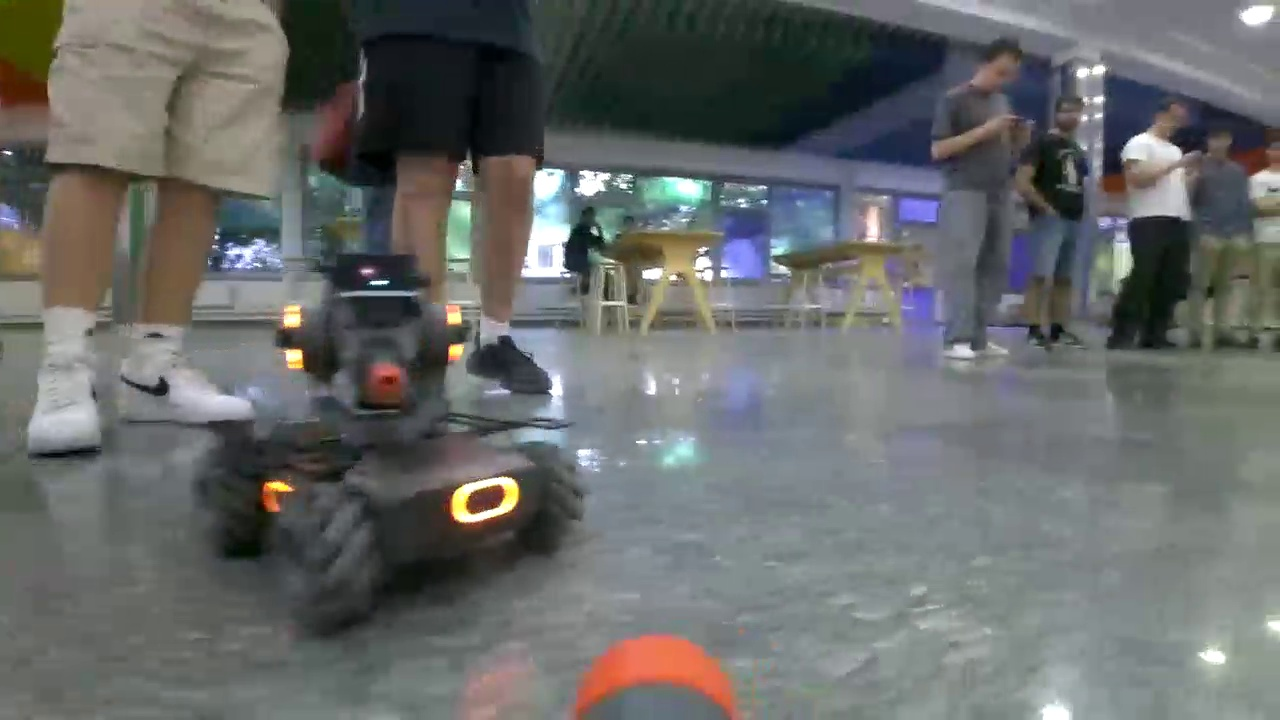robot: (200, 250, 598, 635)
